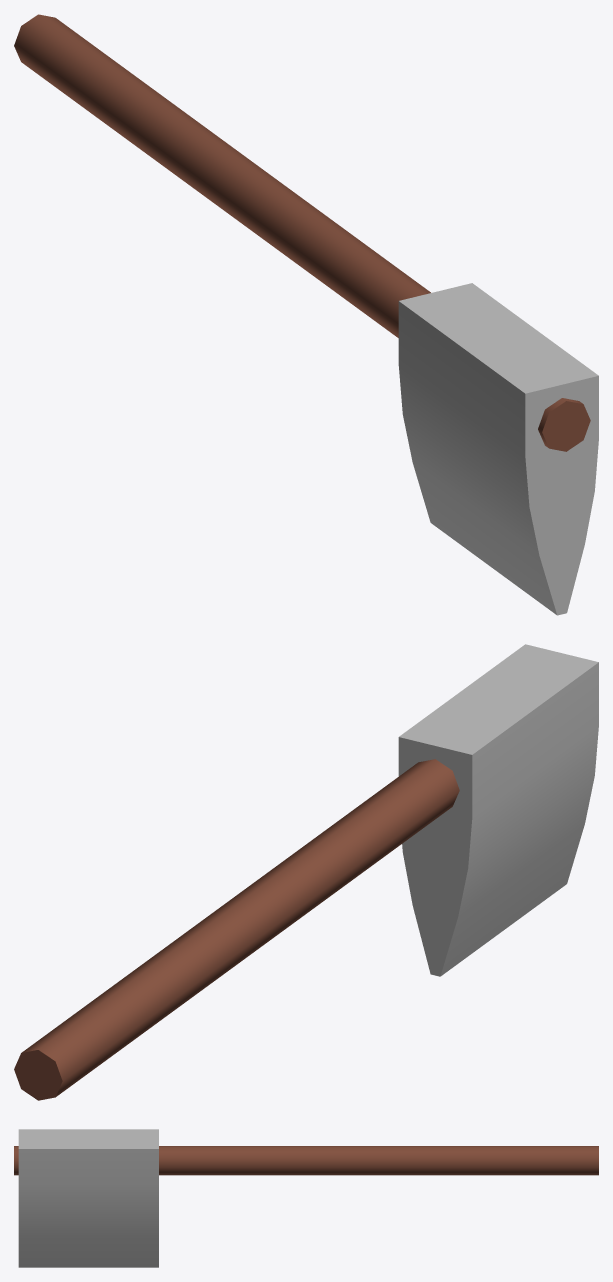
File: axe.fbx
The picture shows the model from 3 angles, top to bottom: view 1: azimuth 30°, elevation 25°; view 2: azimuth 150°, elevation 25°; view 3: azimuth 270°, elevation 25°; orthographic projection. The views are drawn at different scales.
Visible parts, largest first — view 1: axe; view 2: axe; view 3: axe.
Part boxes in pixels (x1,y1,x2,y2): axe: [14, 14, 598, 615]; axe: [14, 644, 598, 1100]; axe: [14, 1129, 598, 1267].
Size of the model in its own units: 9.39 by 28 by 117.
